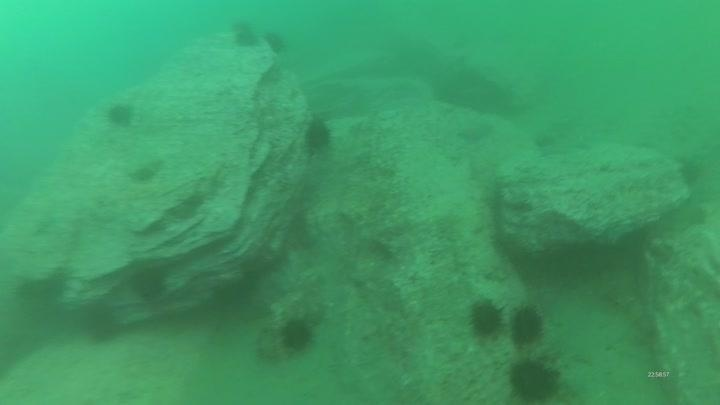echinus: (506, 356, 564, 403), (78, 299, 123, 345), (508, 303, 547, 348), (466, 297, 506, 339), (128, 263, 170, 303), (278, 315, 316, 354), (301, 115, 335, 155), (675, 155, 706, 188), (104, 100, 137, 129), (263, 28, 289, 56), (232, 29, 259, 48), (227, 16, 254, 35)
starfish: (454, 119, 496, 145)
